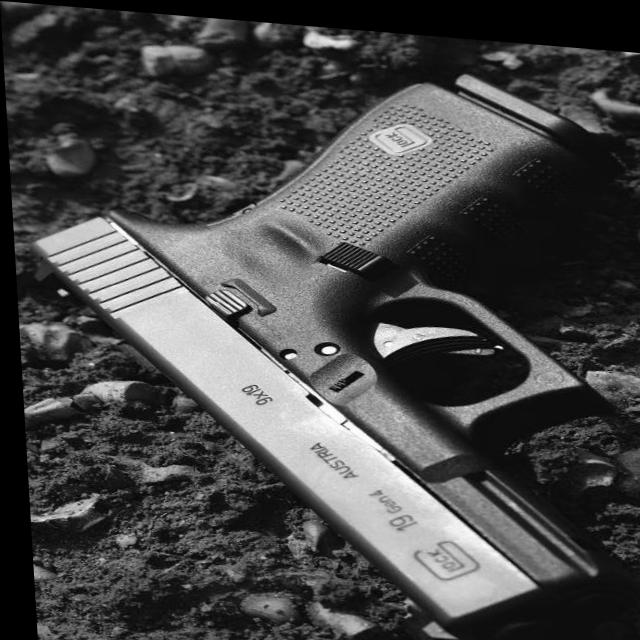handgun: (5, 19, 640, 640)
